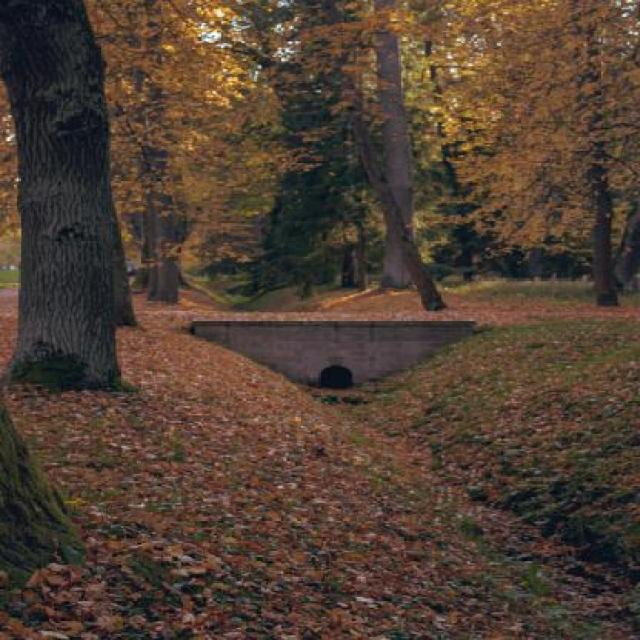organic waste: (234, 456, 364, 552), (132, 330, 261, 423), (458, 292, 570, 321), (172, 305, 346, 318)
